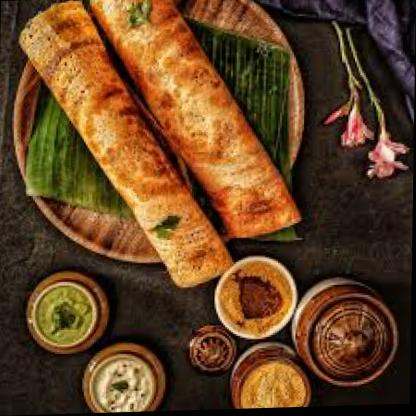dosa: (15, 0, 235, 291), (86, 0, 304, 242)
